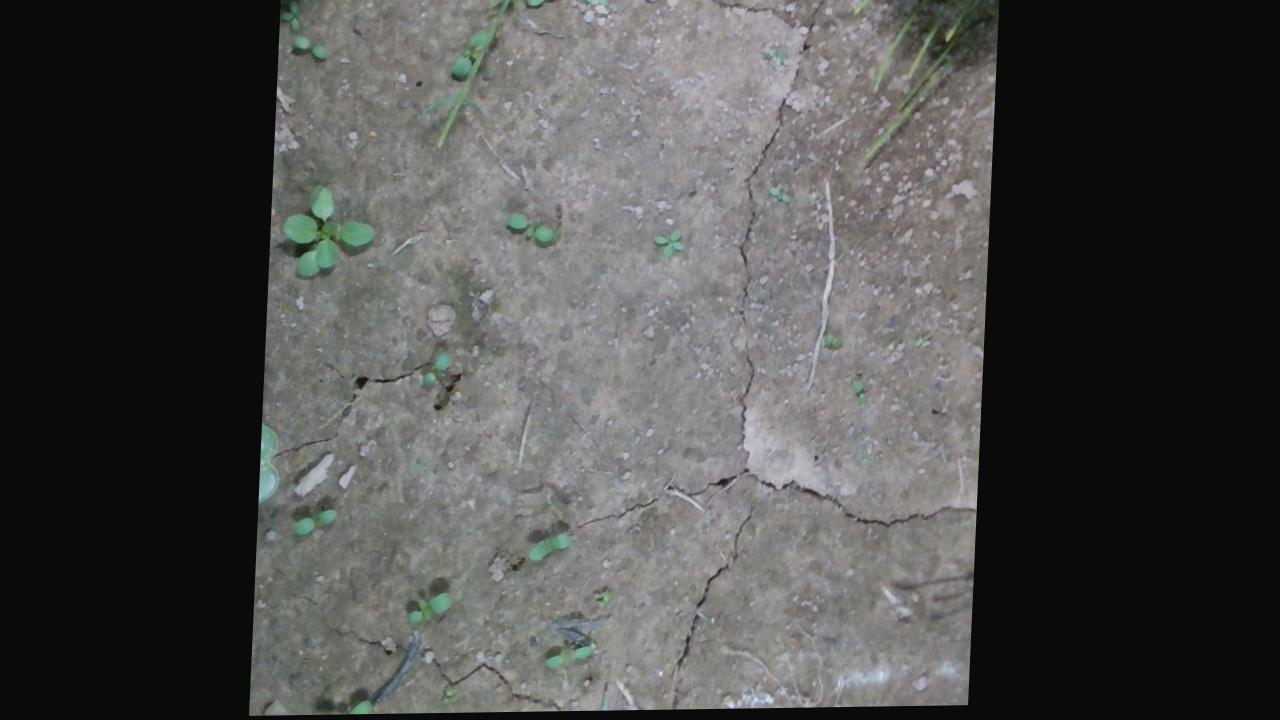weed: (506, 210, 558, 245), (412, 591, 460, 626), (532, 531, 579, 564), (549, 645, 601, 672), (296, 508, 344, 535), (426, 351, 459, 389), (655, 229, 692, 259), (292, 35, 330, 60), (325, 699, 382, 715), (281, 0, 309, 32), (853, 380, 875, 410), (915, 330, 939, 349), (825, 333, 848, 350), (582, 0, 613, 9)
